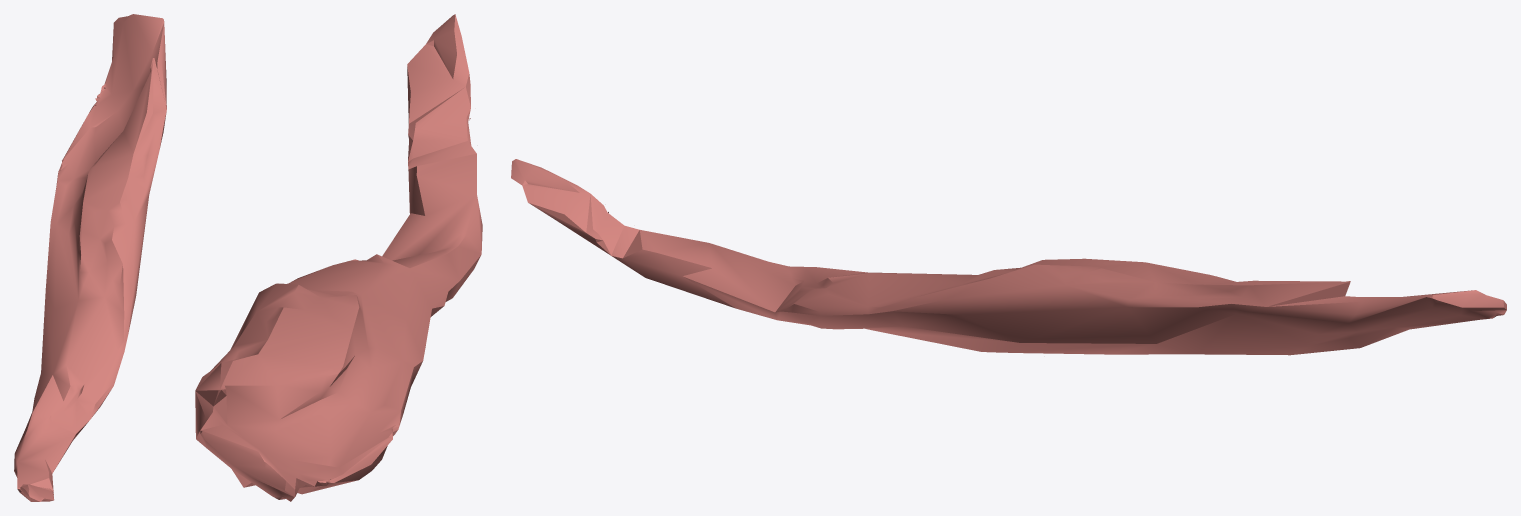
File: fma37471_fj1391.glb
3 views of the same model, side by side, from view 1: azimuth 30°, elevation 25°; view 2: azimuth 210°, elevation 25°; view 3: azimuth 270°, elevation 25° (orthographic). The views are drawn at different scales.
Parts seen in each view (by area): view 1: FMA37471_FJ1391; view 2: FMA37471_FJ1391; view 3: FMA37471_FJ1391.
Boxes of the visible parts, <box> form: FMA37471_FJ1391: <box>14,14,166,501</box>; FMA37471_FJ1391: <box>195,14,482,501</box>; FMA37471_FJ1391: <box>511,159,1506,355</box>.
Bounding box in the file's own units: 0.0465 × 0.0178 × 0.0618.
